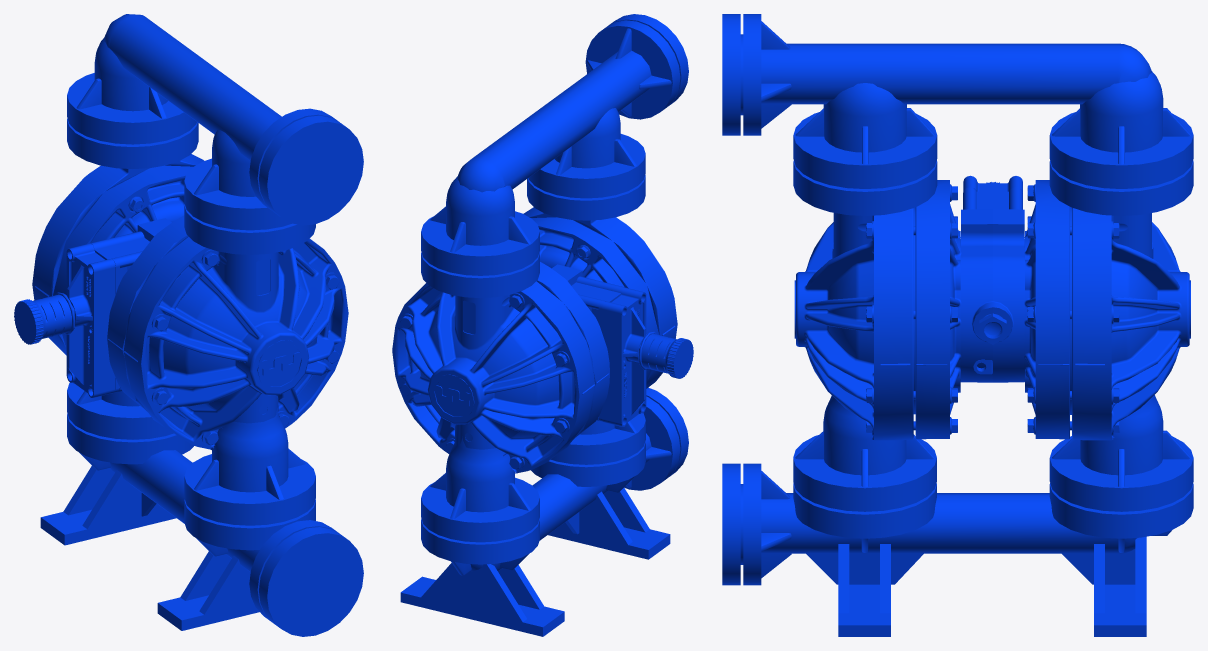
File: D_Pump.fbx
3 views of the same model, side by side, from view 1: azimuth 30°, elevation 25°; view 2: azimuth 150°, elevation 25°; view 3: azimuth 270°, elevation 25° (orthographic). The views are drawn at different scales.
Visible parts, largest first — view 1: D_Pump; view 2: D_Pump; view 3: D_Pump.
Boxes of the visible parts, x1,y1,x2,y2 form: D_Pump: [14, 14, 363, 636]; D_Pump: [392, 14, 693, 636]; D_Pump: [722, 14, 1193, 636].
Size of the model in its own units: 35.55 by 66.45 by 49.25.
